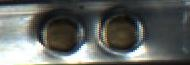joints: (25, 7, 87, 58), (94, 4, 148, 57)
